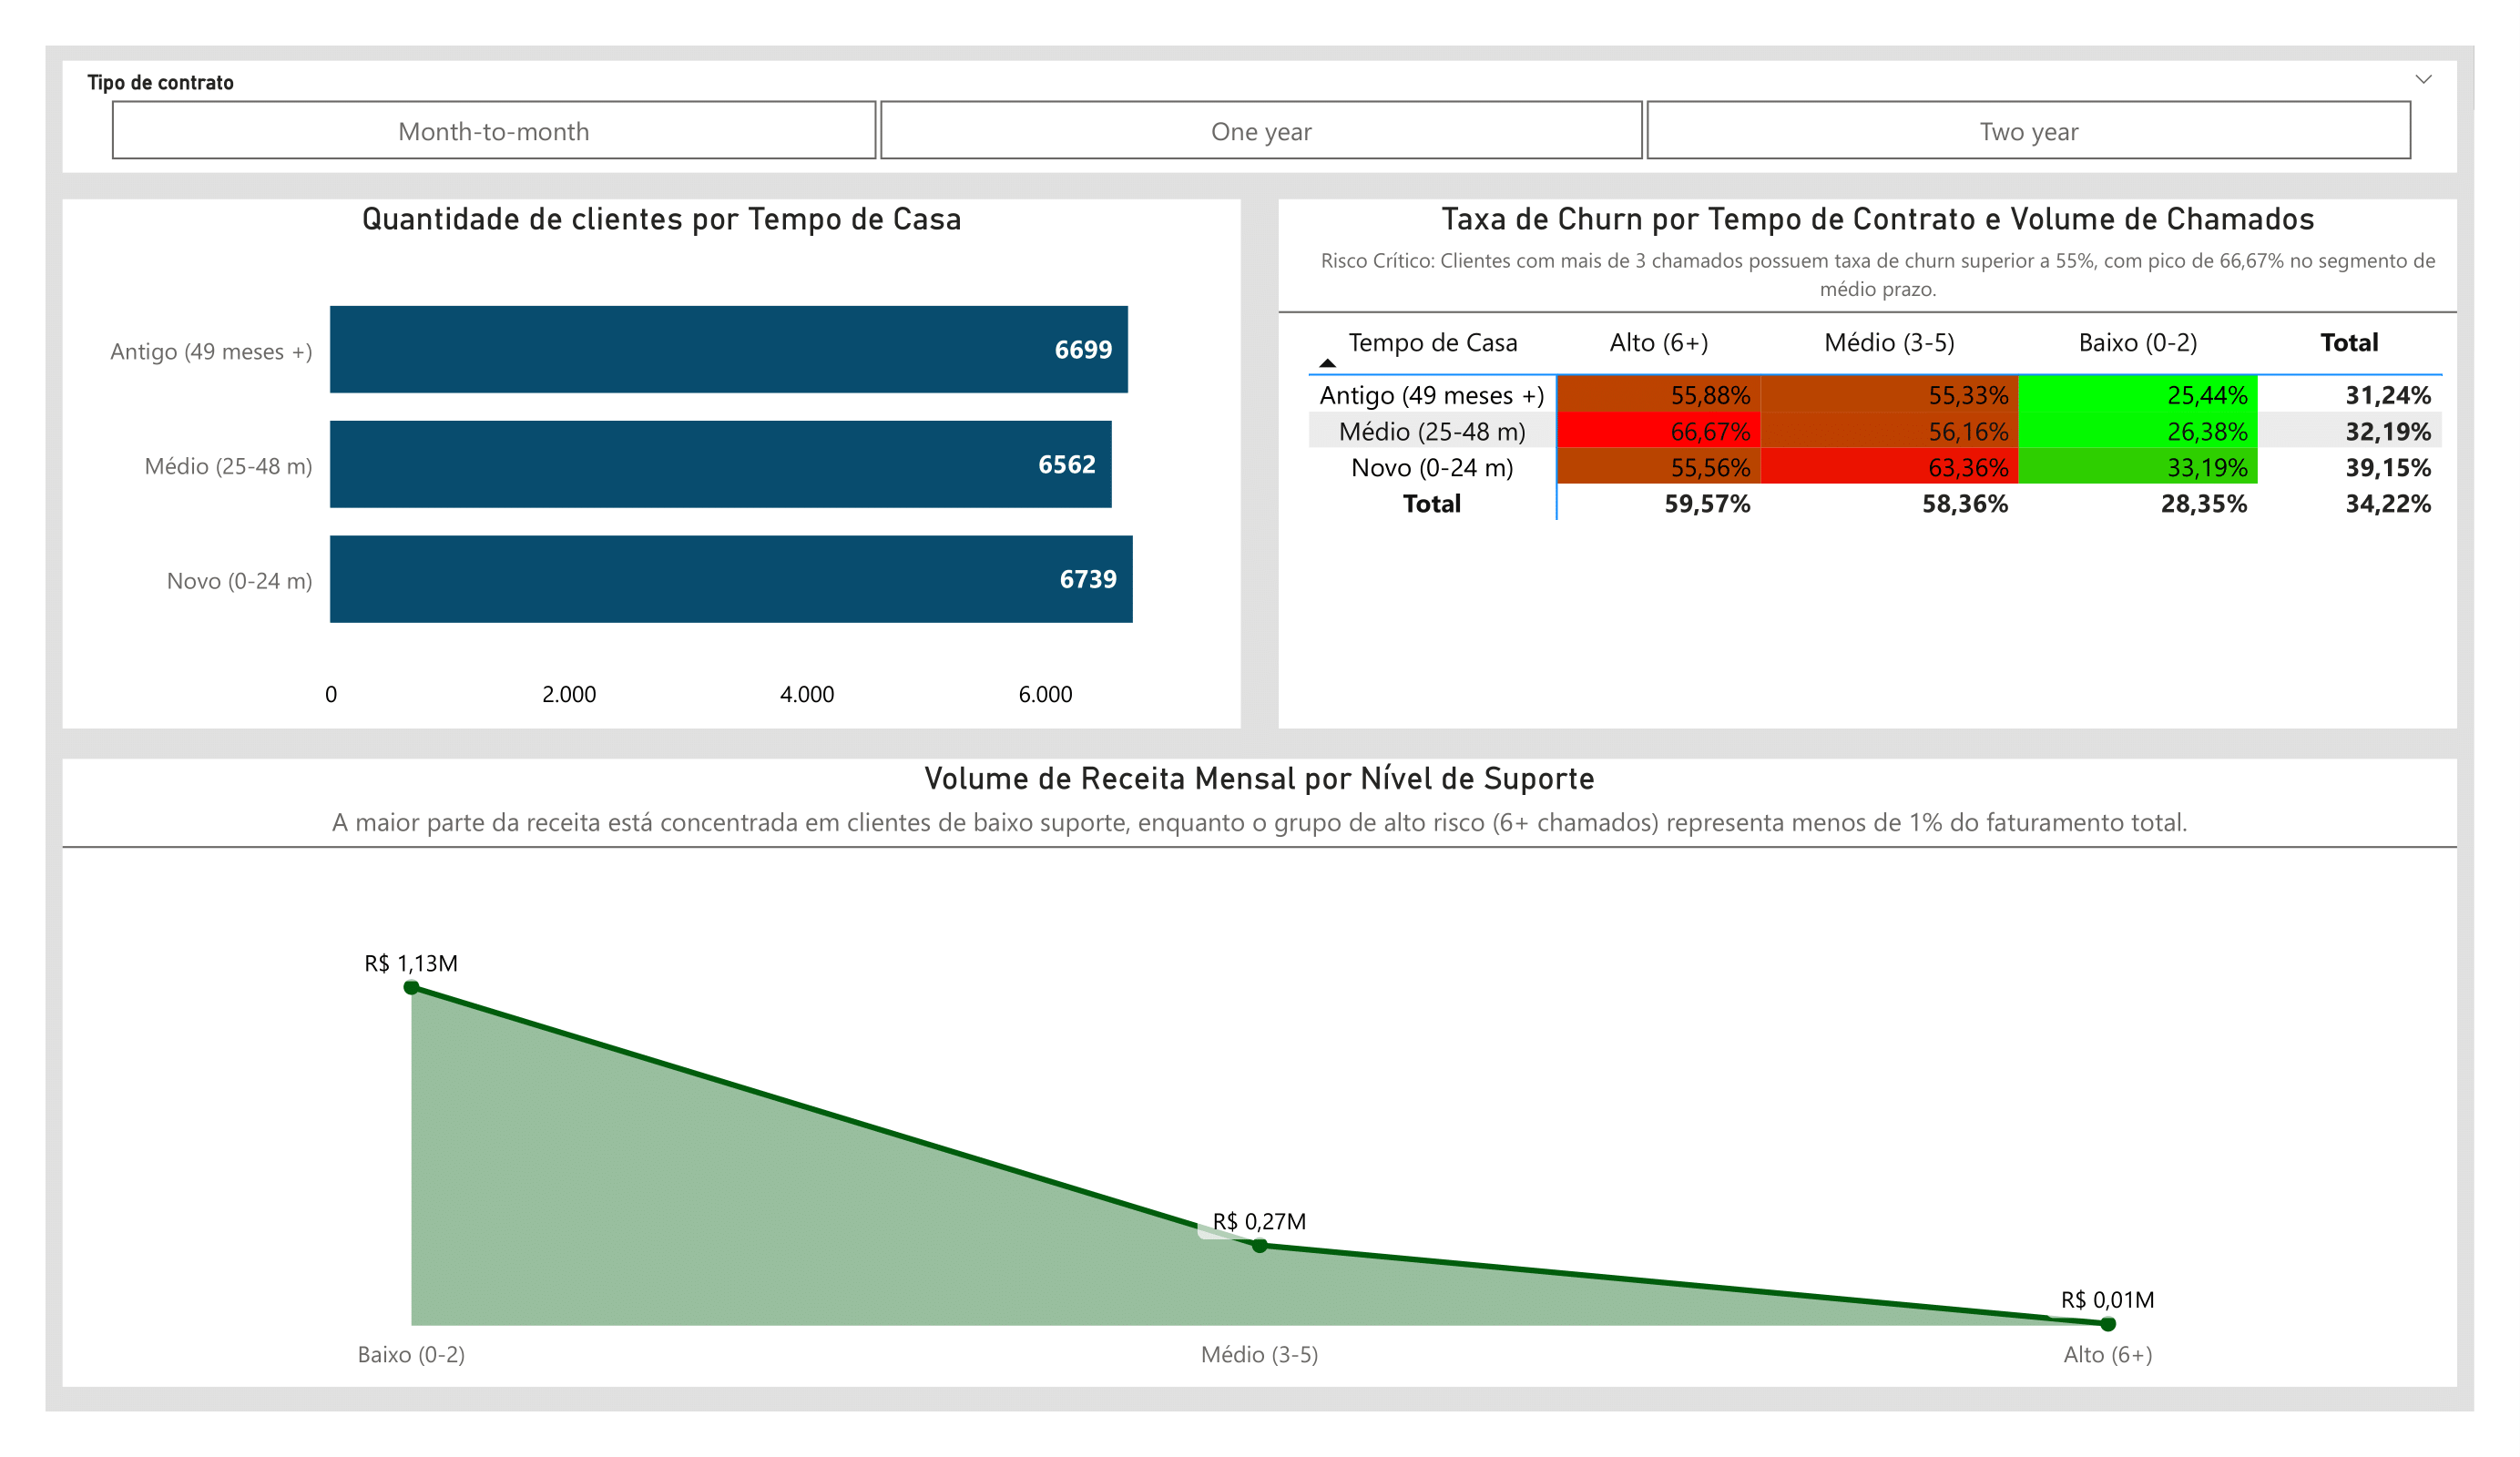

The dashboard page shown, as its layout file describes it:
{"tool":"powerbi","page":{"name":"Page 1","canvas":[1280,720],"ordinal":0},"visuals":[{"type":"pivotTable","title":"Taxa de Churn por Tempo de Contrato e Volume de Chamados","fields":{"Values":["customer_churn.Taxa Churn"],"Rows":["categorias.TEMPO_DE_CASA"],"Columns":["categorias.NIVEL_SUPORTE"]},"box":[650,81,621,279],"z":0},{"type":"clusteredBarChart","title":"Quantidade de clientes por Tempo de Casa","fields":{"Y":["CountNonNull(categorias.CUSTOMER_ID)"],"Category":["categorias.TEMPO_DE_CASA"]},"box":[9,81,621,279],"z":1000},{"type":"lineChart","title":"Volume de Receita Mensal por Nível de Suporte","fields":{"Category":["categorias.NIVEL_SUPORTE"],"Y":["Sum(customer_churn.monthly_charges)"]},"box":[8.9,375.6,1262.2,331.1],"z":2000},{"type":"slicer","fields":{"Values":["categorias.CONTRACT"]},"box":[8.9,7.8,1262.2,58.9],"z":3000}]}

Visuals, with their boxes in screenshot pixels (x1, y1, x2, y2):
"Taxa de Churn por Tempo de Contrato e Volume de Chamados" pivotTable: 1279,199,2457,728
"Quantidade de clientes por Tempo de Casa" clusteredBarChart: 63,199,1241,728
"Volume de Receita Mensal por Nível de Suporte" lineChart: 63,759,2457,1386
slicer - categorias.CONTRACT: 63,60,2457,172
